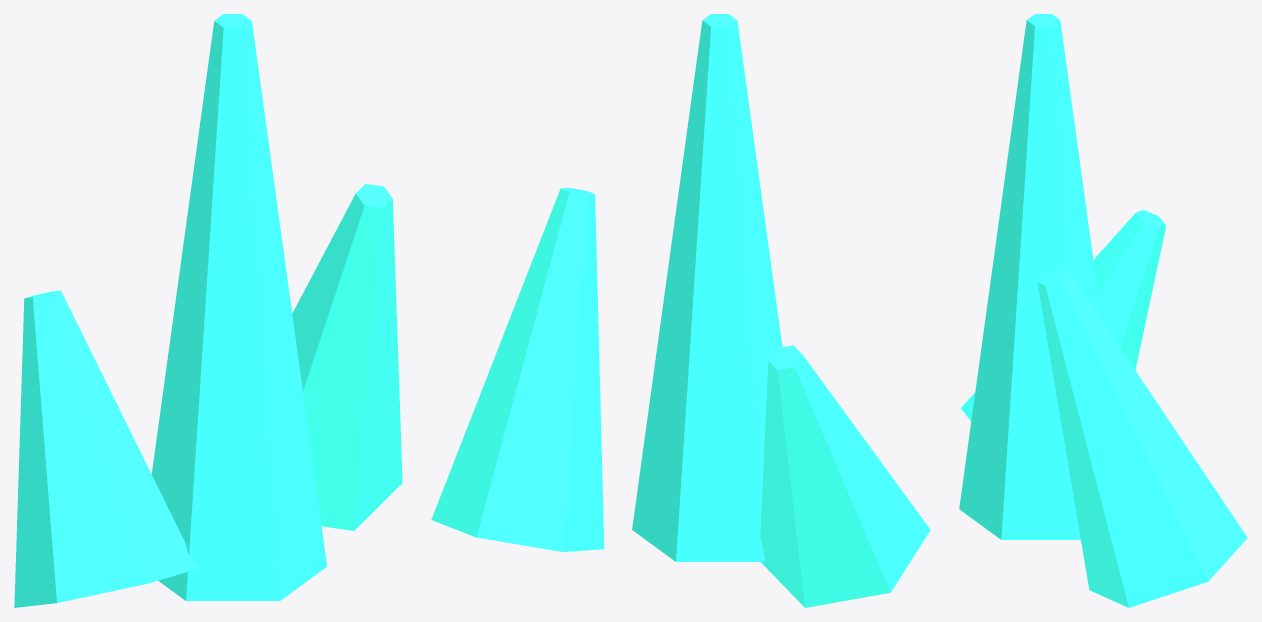
File: ENV_Crystal.glb
3 renders of one model, left to right at view 1: azimuth 30°, elevation 25°; view 2: azimuth 150°, elevation 25°; view 3: azimuth 270°, elevation 25°, orthographic. The views are drawn at different scales.
Visible parts, largest first — view 1: Shard_0, Shard_2, Shard_1; view 2: Shard_0, Shard_1, Shard_2; view 3: Shard_0, Shard_1, Shard_2.
Part boxes in pixels (x1,y1,x2,y2): Shard_0: [151, 14, 326, 600]; Shard_2: [14, 290, 197, 607]; Shard_1: [292, 183, 402, 530]; Shard_0: [632, 14, 782, 561]; Shard_1: [431, 188, 604, 551]; Shard_2: [760, 345, 930, 607]; Shard_0: [959, 14, 1101, 539]; Shard_1: [1037, 268, 1247, 607]; Shard_2: [961, 209, 1166, 420].
Bounding box in the file's own units: 1.28 × 1.67 × 0.8559.
